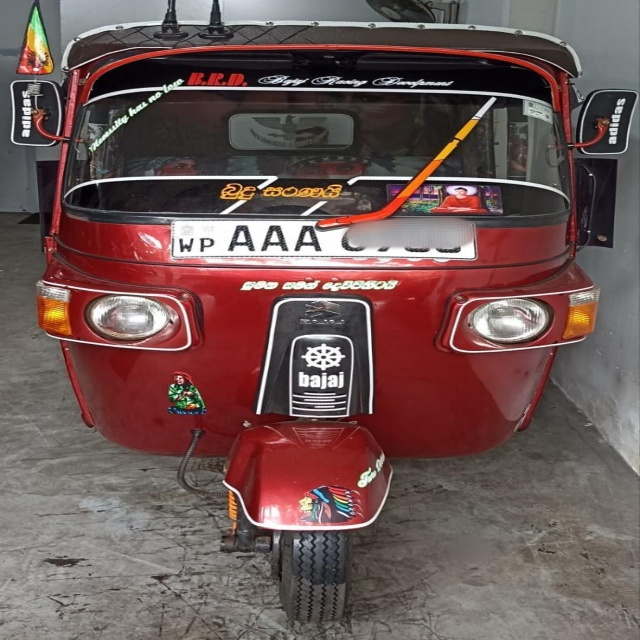Motorcycle: (9, 20, 640, 624)
